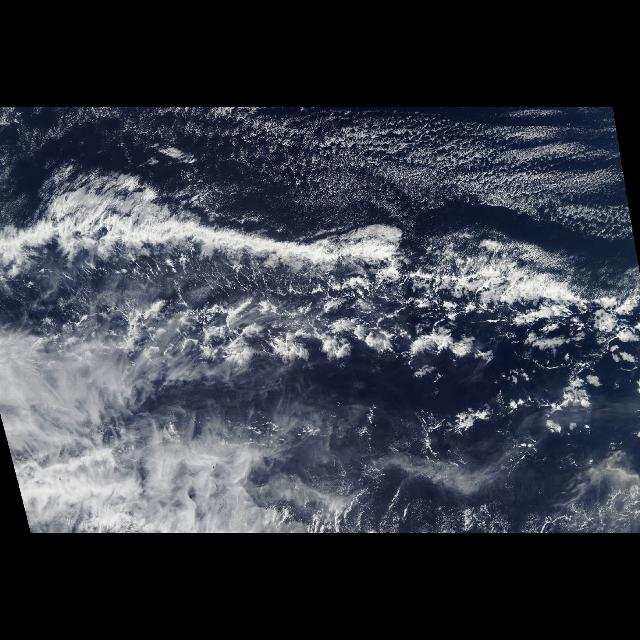Sugar: (168, 108, 632, 222)
